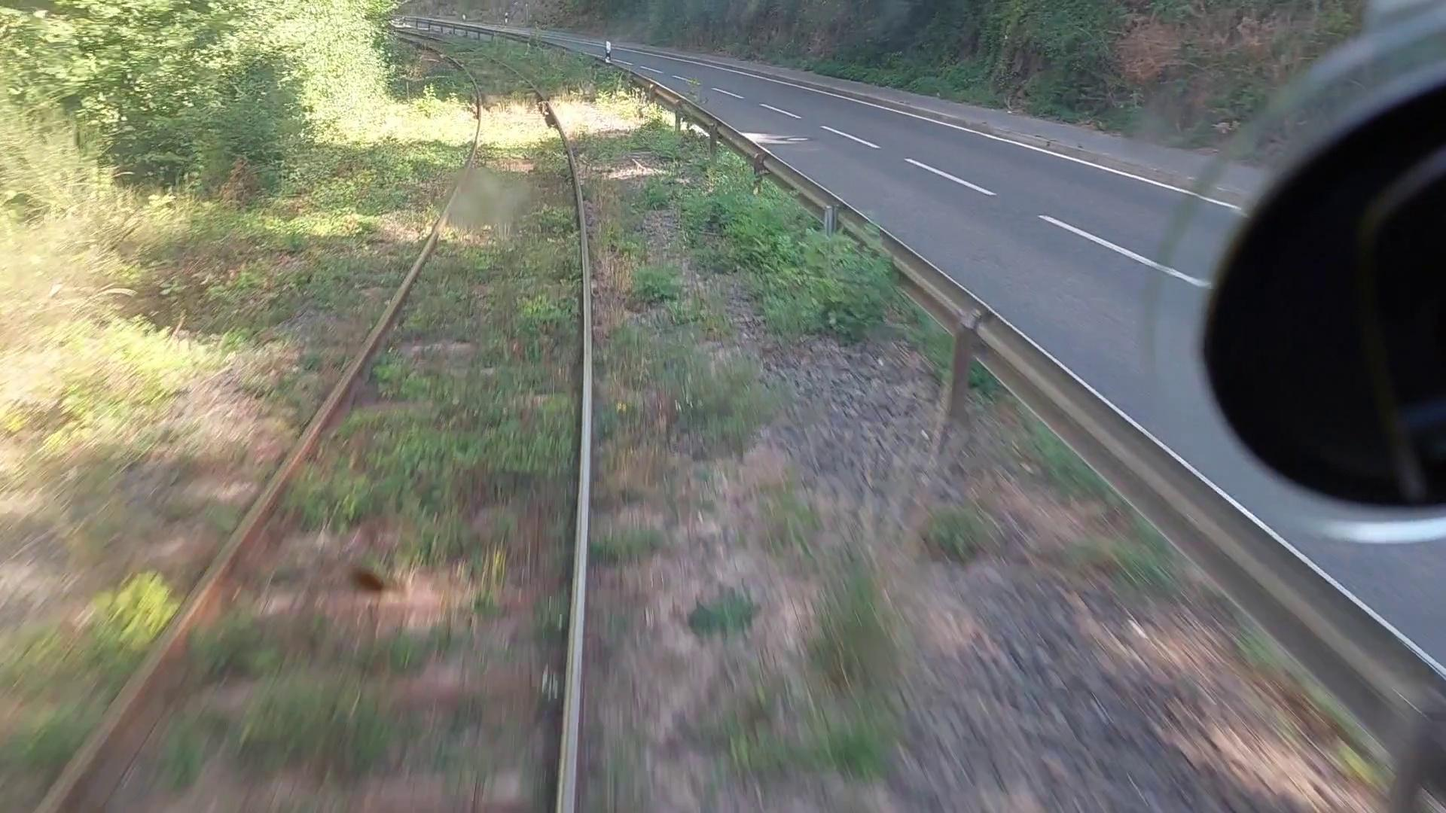Plant: (456, 33, 1009, 569), (274, 203, 583, 596), (152, 589, 567, 812), (659, 565, 907, 793), (1082, 499, 1205, 606), (921, 498, 1016, 561), (688, 575, 767, 641), (481, 136, 570, 182)
